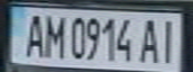0: (66, 12, 84, 60)
1: (100, 15, 118, 62)
4: (115, 15, 139, 63)
9: (81, 14, 103, 61)
A: (18, 10, 48, 58), (136, 16, 163, 64)
I: (154, 16, 184, 63)
M: (42, 11, 66, 60)
